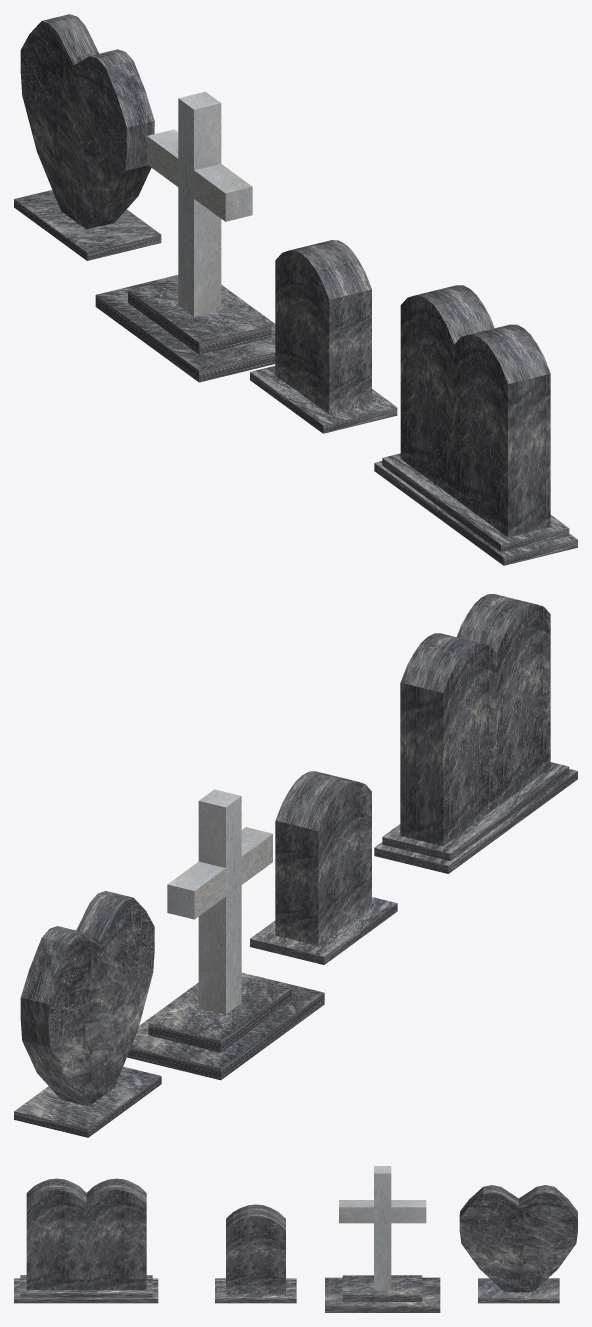
Rendered from tombstones.fbx.
The picture shows the model from 3 angles, top to bottom: view 1: azimuth 30°, elevation 25°; view 2: azimuth 150°, elevation 25°; view 3: azimuth 270°, elevation 25°; orthographic projection. The views are drawn at different scales.
Visible parts, largest first — view 1: Cube.009, Cube.006, Cube.001, Cube.014, Cube.007, Cube.015, Cube.016, Cube.010, Cube.008, Cube, Cube.005; view 2: Cube.009, Cube.007, Cube.001, Cube.014, Cube.006, Cube.015, Cube.016, Cube.010, Cube.008, Cube, Cube.005; view 3: Cube.009, Cube.006, Cube.007, Cube.001, Cube.014, Cube.015, Cube.016, Cube.010, Cube.005, Cube.008, Cube.
Boxes of the visible parts, left/top/right/bottom form: Cube.009: left=20, top=14, right=154, bottom=229; Cube.006: left=454, top=324, right=550, bottom=537; Cube.001: left=275, top=240, right=371, bottom=414; Cube.014: left=147, top=91, right=252, bottom=316; Cube.007: left=400, top=285, right=494, bottom=497; Cube.015: left=95, top=275, right=275, bottom=382; Cube.016: left=128, top=278, right=271, bottom=354; Cube.010: left=14, top=190, right=161, bottom=260; Cube.008: left=382, top=453, right=569, bottom=552; Cube: left=250, top=366, right=397, bottom=433; Cube.005: left=374, top=461, right=577, bottom=565; Cube.009: left=20, top=891, right=154, bottom=1106; Cube.007: left=400, top=633, right=496, bottom=846; Cube.001: left=275, top=771, right=371, bottom=945; Cube.014: left=167, top=789, right=272, bottom=1014; Cube.006: left=456, top=594, right=550, bottom=806; Cube.015: left=127, top=972, right=324, bottom=1080; Cube.016: left=148, top=976, right=291, bottom=1052; Cube.010: left=14, top=1066, right=161, bottom=1137; Cube.008: left=382, top=762, right=569, bottom=860; Cube: left=250, top=897, right=397, bottom=964; Cube.005: left=374, top=769, right=577, bottom=873; Cube.009: left=459, top=1185, right=577, bottom=1292; Cube.006: left=26, top=1178, right=86, bottom=1289; Cube.007: left=86, top=1178, right=146, bottom=1289; Cube.001: left=226, top=1204, right=285, bottom=1294; Cube.014: left=339, top=1166, right=426, bottom=1288; Cube.015: left=325, top=1277, right=440, bottom=1312; Cube.016: left=342, top=1275, right=422, bottom=1301; Cube.010: left=478, top=1278, right=559, bottom=1303; Cube.005: left=14, top=1278, right=158, bottom=1303; Cube.008: left=20, top=1275, right=152, bottom=1297; Cube: left=215, top=1278, right=296, bottom=1303.
Bounding box in the file's own units: 283 × 595 × 2362.
Materials: 3 (3 with a texture image).
